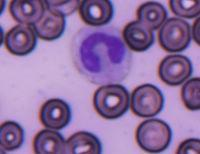N: (70, 24, 132, 86)
